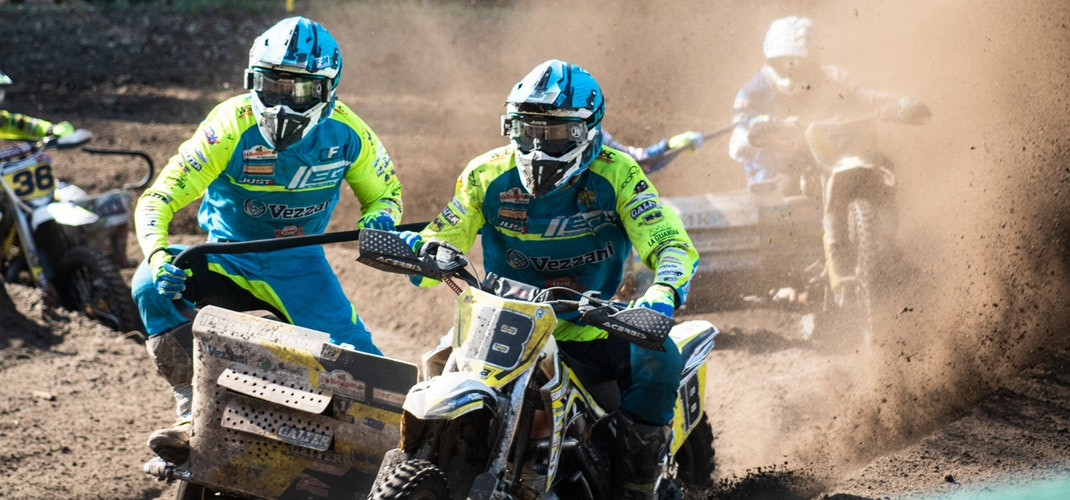helmet: (227, 16, 366, 163), (492, 47, 617, 198)
